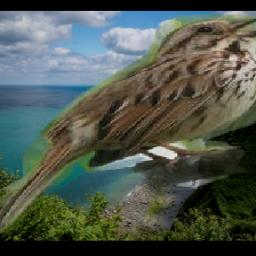Sparrow: (0, 13, 256, 234)
